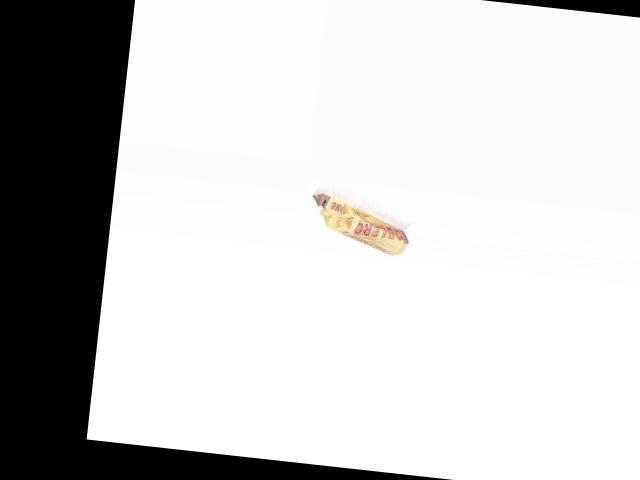chocolate: (306, 187, 412, 258)
